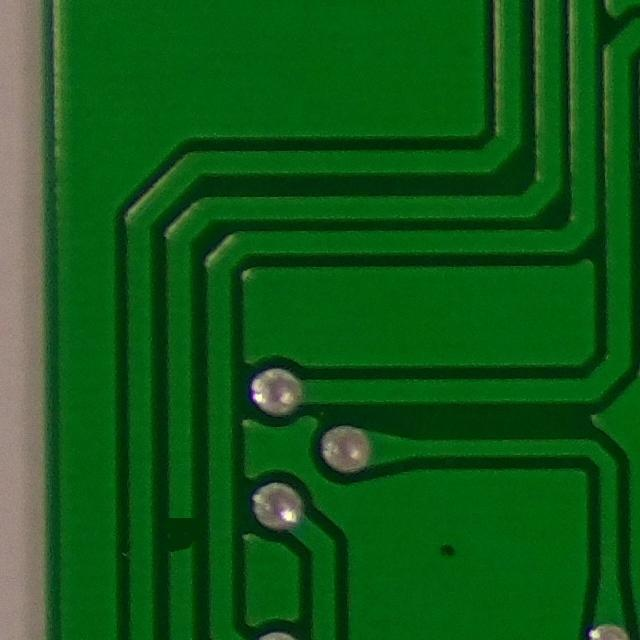open_circuit: (159, 496, 204, 579)
